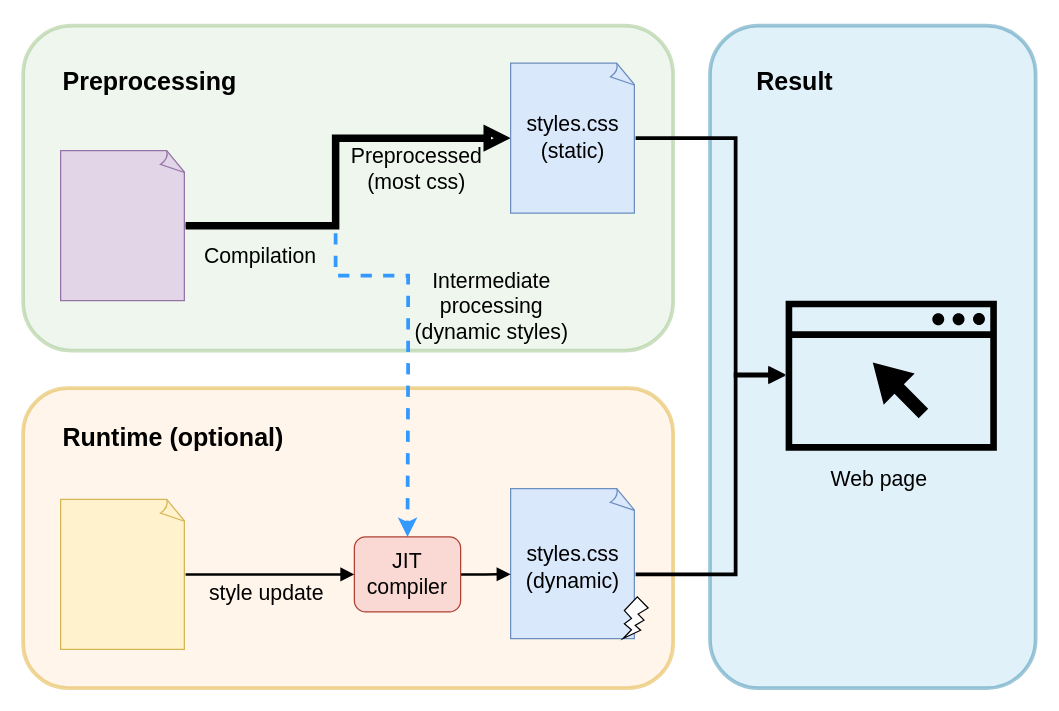
This 1059x711 diagram has some shape labels left out. Each missing label, with the centre of its shape:
"script.js" goes at pixel 122 573.
"styles.vcss" goes at pixel 122 225.
